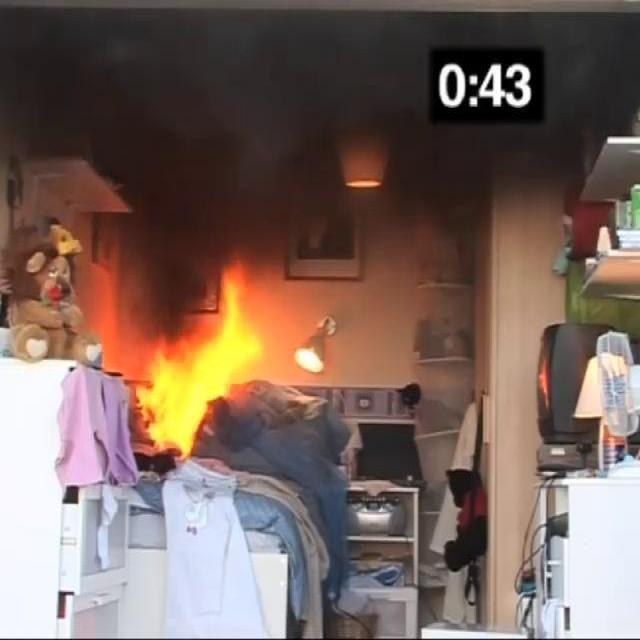fire: (139, 247, 275, 463)
smoke: (39, 11, 382, 232)
